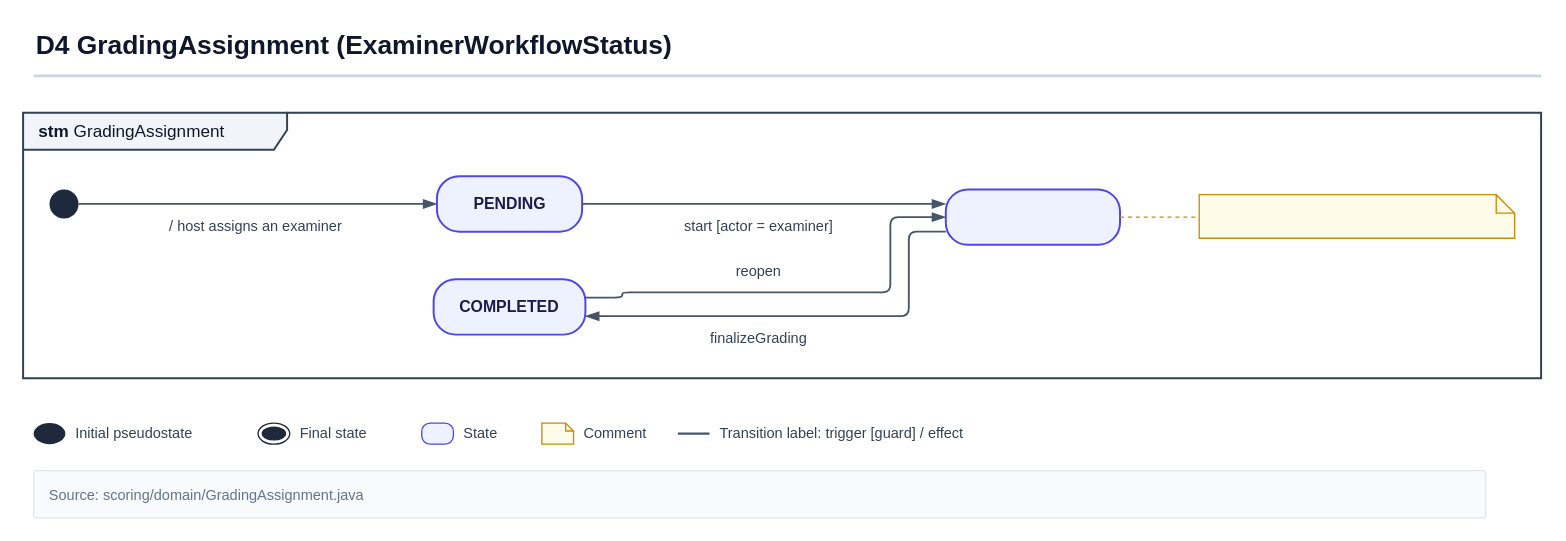
This 1566x541 diagram has some shape labels left out. Here are the shapes that lost their labels. From the top down, the centre of each, then its label:
At point 1032,216: "IN_PROGRESS".
At point 1356,215: "GradingIssue goes OPEN to RESOLVED".
